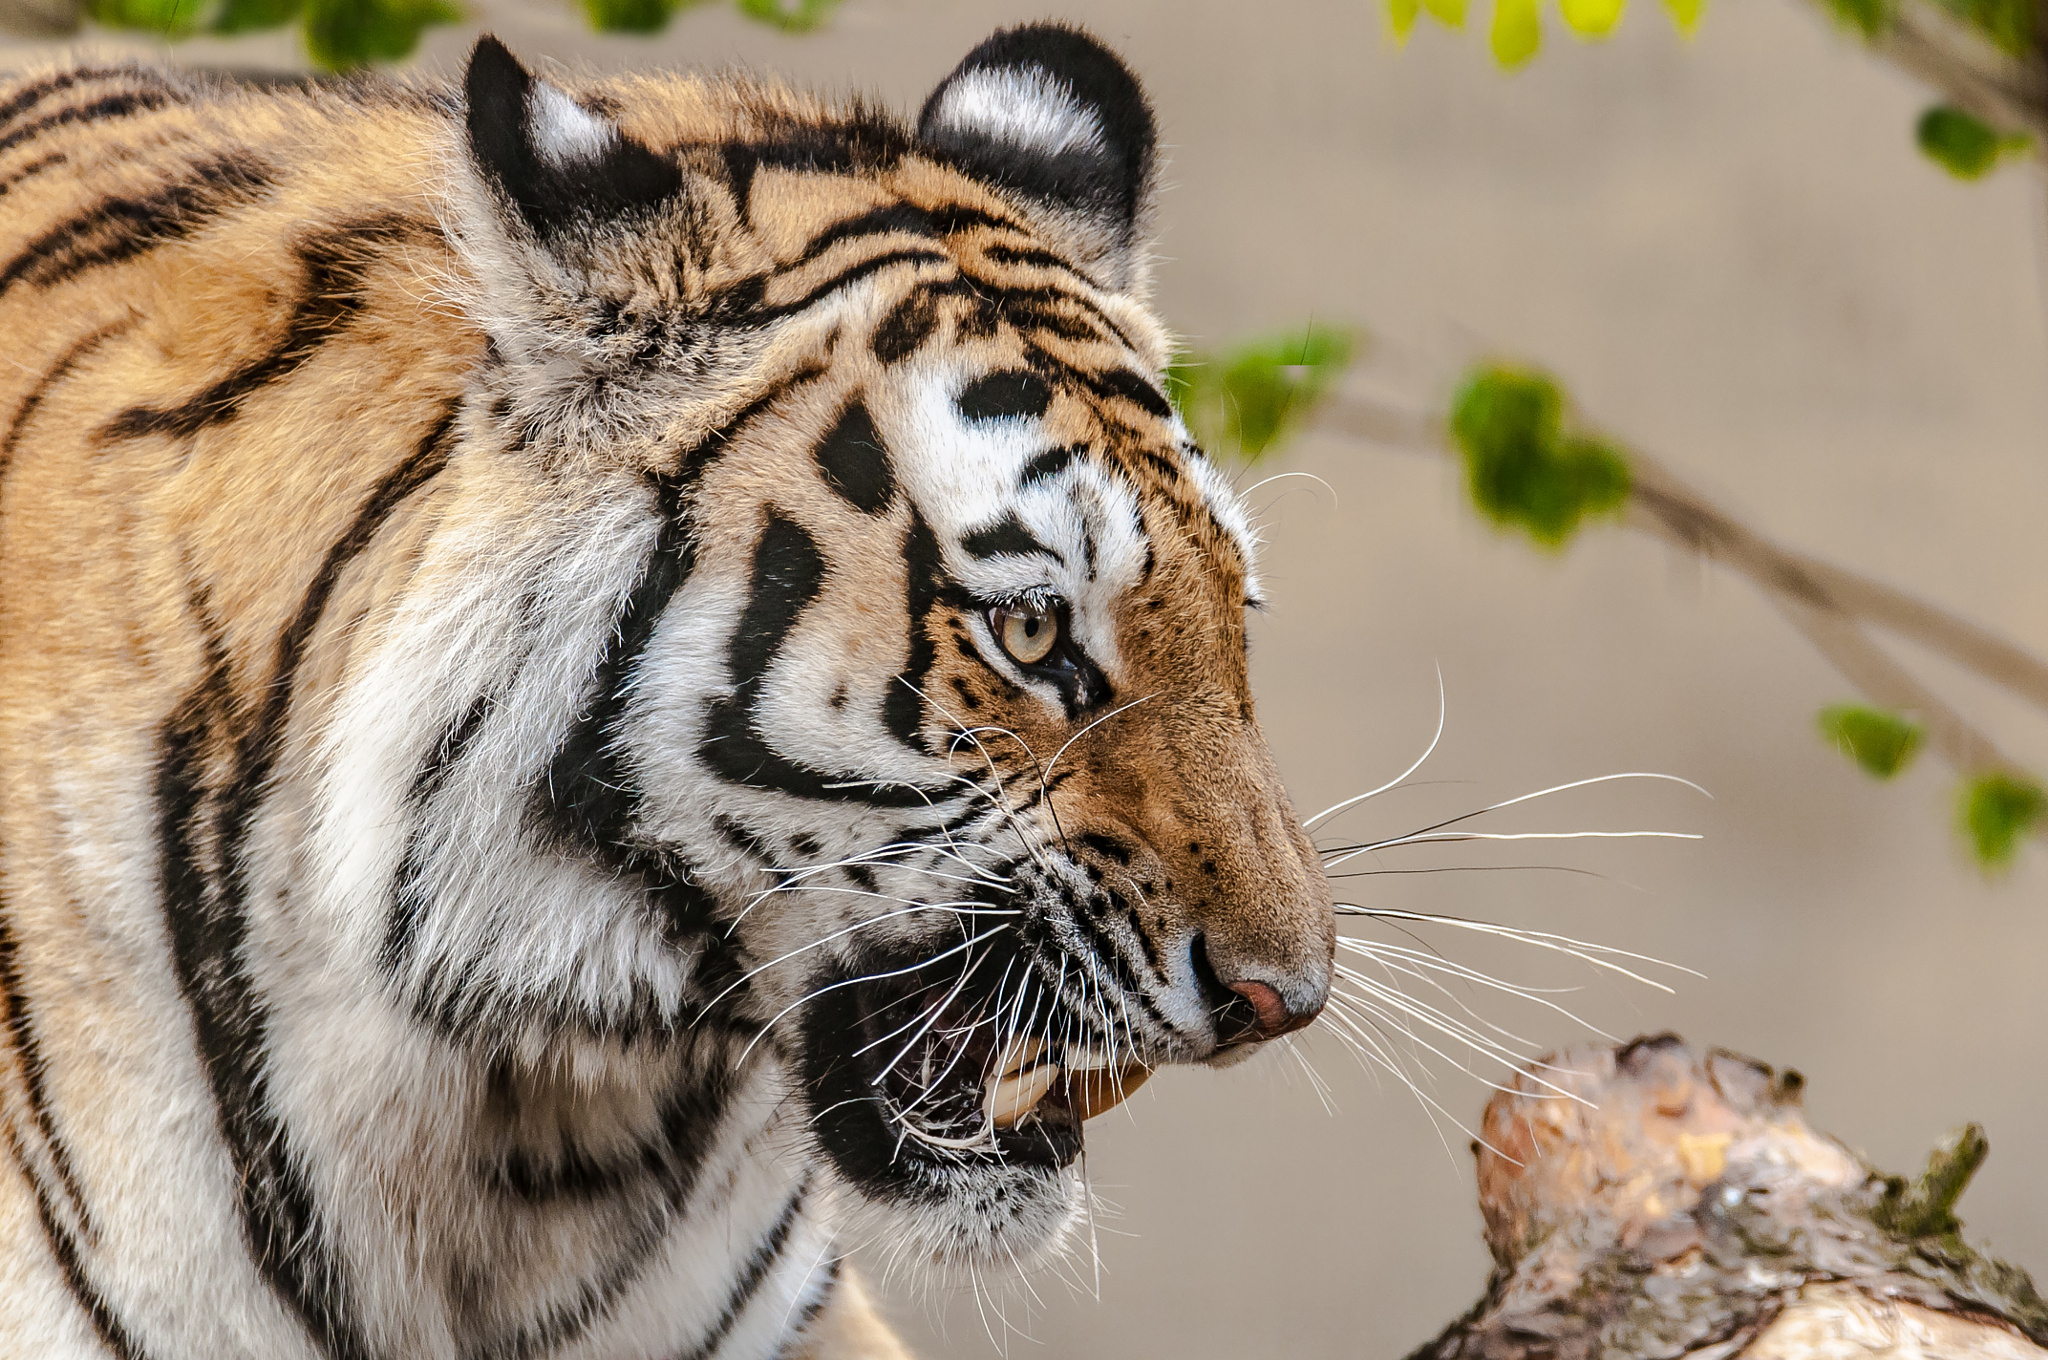tiger: (44, 26, 1318, 1211)
